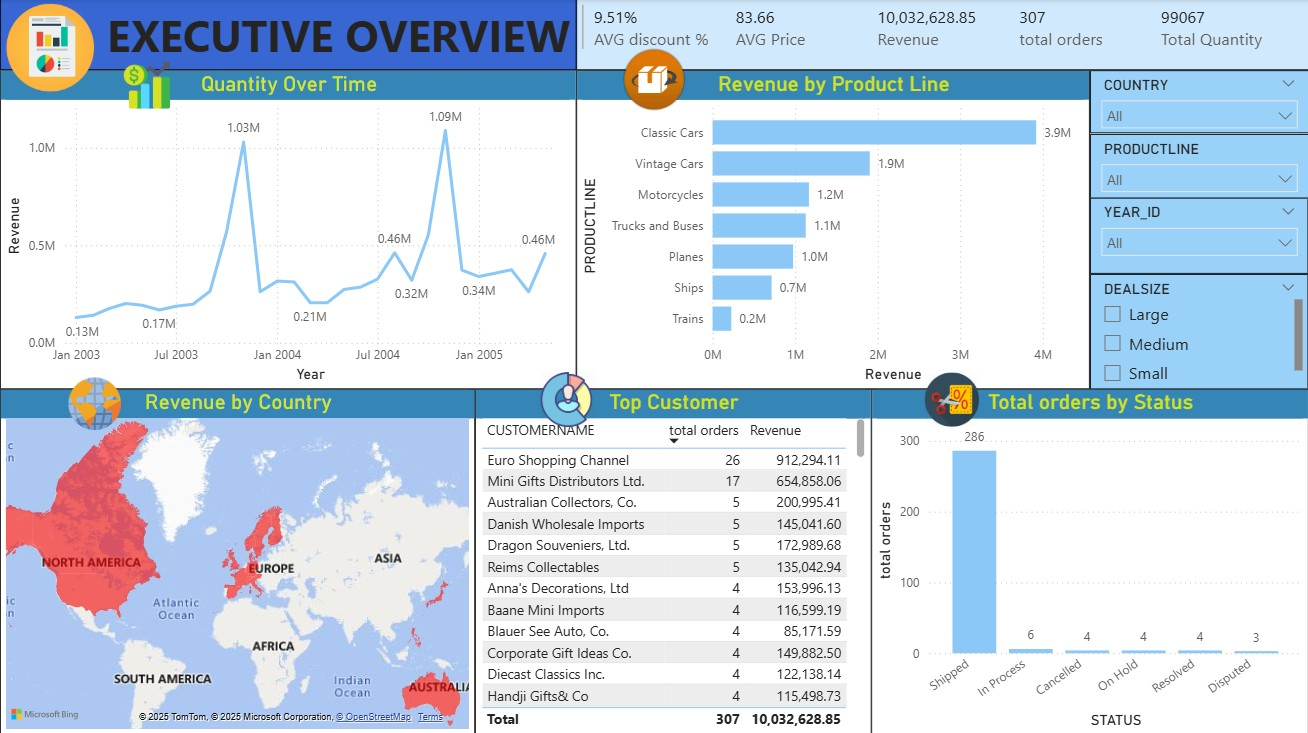

This screenshot's page, from the dashboard's own definition file:
{"tool":"powerbi","page":{"name":"Executive Overview","canvas":[1280,720],"ordinal":0},"visuals":[{"type":"multiRowCard","fields":{"Values":["Automobile_sales.AVG discount %","Automobile_sales.AVG Price","Automobile_sales.Revenue","Automobile_sales.total orders","Automobile_sales.Total Quantity"]},"box":[563.7,0,716.6,69.7],"z":0},{"type":"textbox","box":[0,0,563.7,69.7],"z":1000},{"type":"lineChart","title":"Quantity Over Time","fields":{"Y":["Automobile_sales.Revenue"],"Category":["Automobile_sales.ORDERDATE.Variation.Date Hierarchy.Year","Automobile_sales.ORDERDATE.Variation.Date Hierarchy.Month"]},"box":[0,69.7,563.7,311.8],"z":2000},{"type":"barChart","title":"Revenue by Product Line","fields":{"Category":["Automobile_sales.PRODUCTLINE"],"Y":["Automobile_sales.Revenue"]},"box":[563.7,69.7,502.6,311.8],"z":3000},{"type":"filledMap","title":"Revenue by Country","fields":{"Category":["Automobile_sales.COUNTRY"]},"box":[0,381.5,464.7,338.7],"z":4000},{"type":"columnChart","title":"Total orders by Status","fields":{"Category":["Automobile_sales.STATUS"],"Y":["Automobile_sales.total orders"]},"box":[852.3,381.5,428,338.7],"z":5000},{"type":"tableEx","title":"Top Customer","fields":{"Values":["Automobile_sales.CUSTOMERNAME","Automobile_sales.total orders","Automobile_sales.Revenue"]},"box":[464.7,381.5,387.6,338.7],"z":6000},{"type":"slicer","fields":{"Values":["Automobile_sales.COUNTRY"]},"box":[1066.2,70,214.1,61.7],"z":7000},{"type":"slicer","fields":{"Values":["Automobile_sales.PRODUCTLINE"]},"box":[1066.2,131.7,214.1,63.1],"z":8000},{"type":"slicer","fields":{"Values":["Automobile_sales.YEAR_ID"]},"box":[1066.3,194.4,214,74.6],"z":9000},{"type":"slicer","fields":{"Values":["Automobile_sales.DEALSIZE"]},"box":[1066.3,269,214,112.5],"z":10000},{"type":"image","box":[56.3,359.5,73.4,73.4],"z":11000},{"type":"image","box":[602.9,41.6,74.6,74.6],"z":12000},{"type":"image","box":[523.4,359.5,64.8,64.8],"z":13000},{"type":"image","box":[900,360.7,62.4,62.4],"z":14000},{"type":"image","box":[0,0,99,95.4],"z":15000},{"type":"image","box":[111.3,52.6,64.8,63.6],"z":16000}]}

Visuals, with their boxes in screenshot pixels (x1, y1, x2, y2), scaled from the page's 1280x720 canvas onto the 1308x733 screenshot:
multiRowCard - Automobile_sales.AVG discount % x Automobile_sales.AVG Price: 576,0,1307,71
textbox: 0,0,576,71
"Quantity Over Time" lineChart: 0,71,576,388
"Revenue by Product Line" barChart: 576,71,1090,388
"Revenue by Country" filledMap: 0,388,475,732
"Total orders by Status" columnChart: 871,388,1307,732
"Top Customer" tableEx: 475,388,871,732
slicer - Automobile_sales.COUNTRY: 1090,71,1307,134
slicer - Automobile_sales.PRODUCTLINE: 1090,134,1307,198
slicer - Automobile_sales.YEAR_ID: 1090,198,1307,274
slicer - Automobile_sales.DEALSIZE: 1090,274,1307,388
image: 58,366,133,441
image: 616,42,692,118
image: 535,366,601,432
image: 920,367,983,431
image: 0,0,101,97
image: 114,54,180,118
